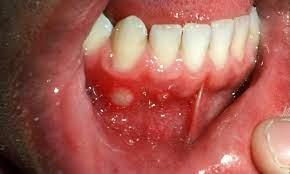Ulcer: (109, 82, 144, 113)
